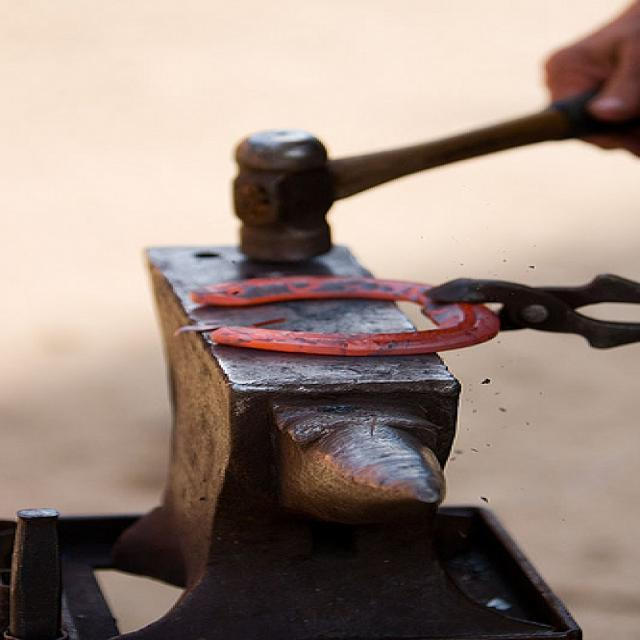hammer: (223, 105, 618, 267)
